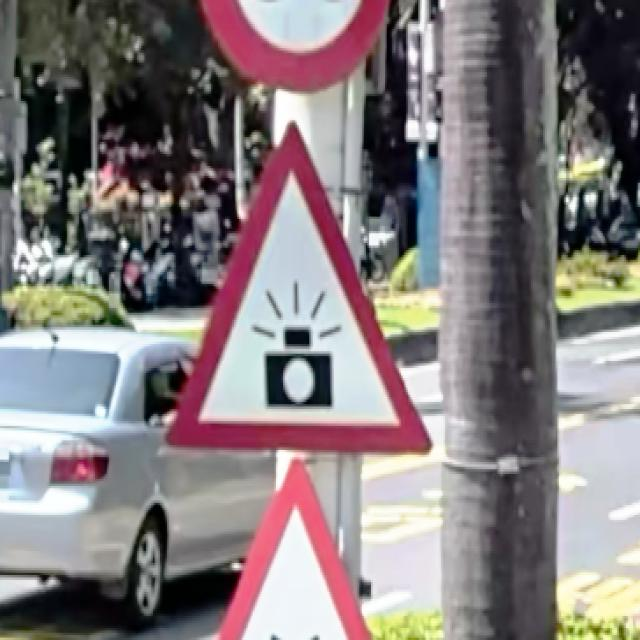speedcamera: (165, 120, 433, 455)
